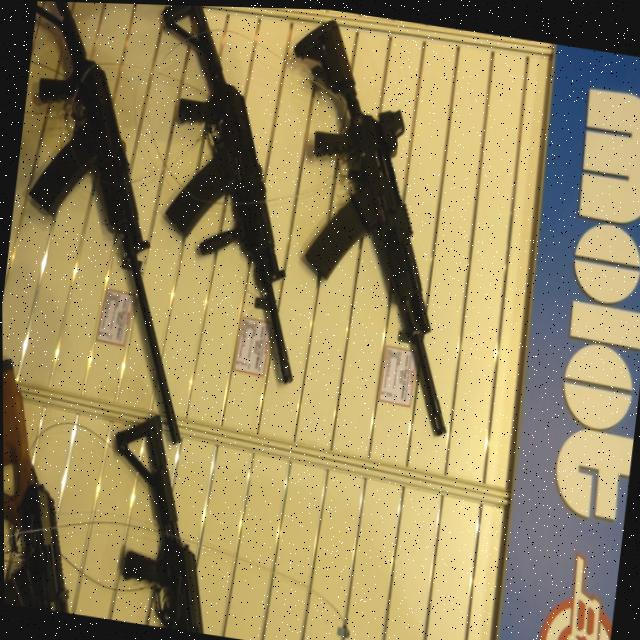firearm: (0, 0, 236, 445), (249, 12, 494, 435), (117, 3, 336, 379), (92, 413, 244, 635), (2, 360, 107, 613)
